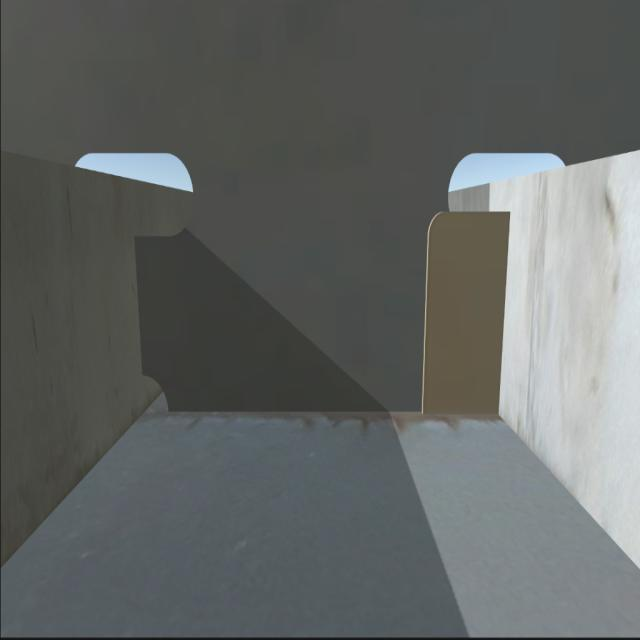fillet_hole: (138, 371, 169, 419)
fillet_yong_jeop_jang: (166, 408, 497, 420)
longi_yong_jeop_jang: (496, 209, 512, 418), (130, 237, 148, 374)
plate_CP05: (421, 208, 508, 421)
